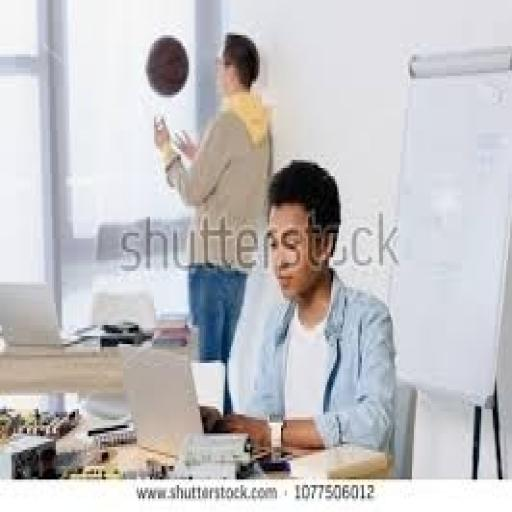using_laptop: (119, 339, 252, 463)
